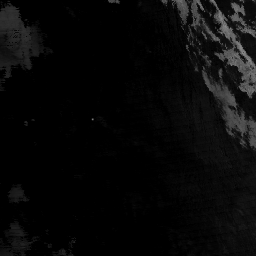Target: (90, 117, 93, 121)
